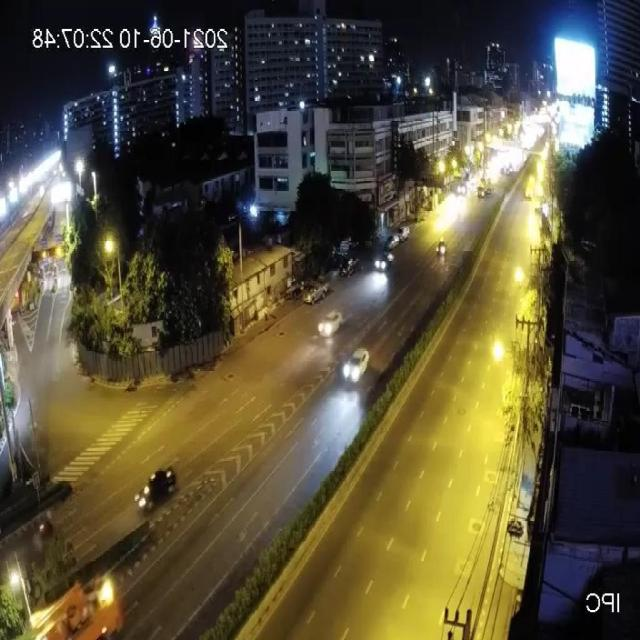Car: (134, 463, 178, 512), (342, 346, 370, 382), (316, 306, 344, 341), (375, 252, 394, 270), (436, 240, 447, 256)
